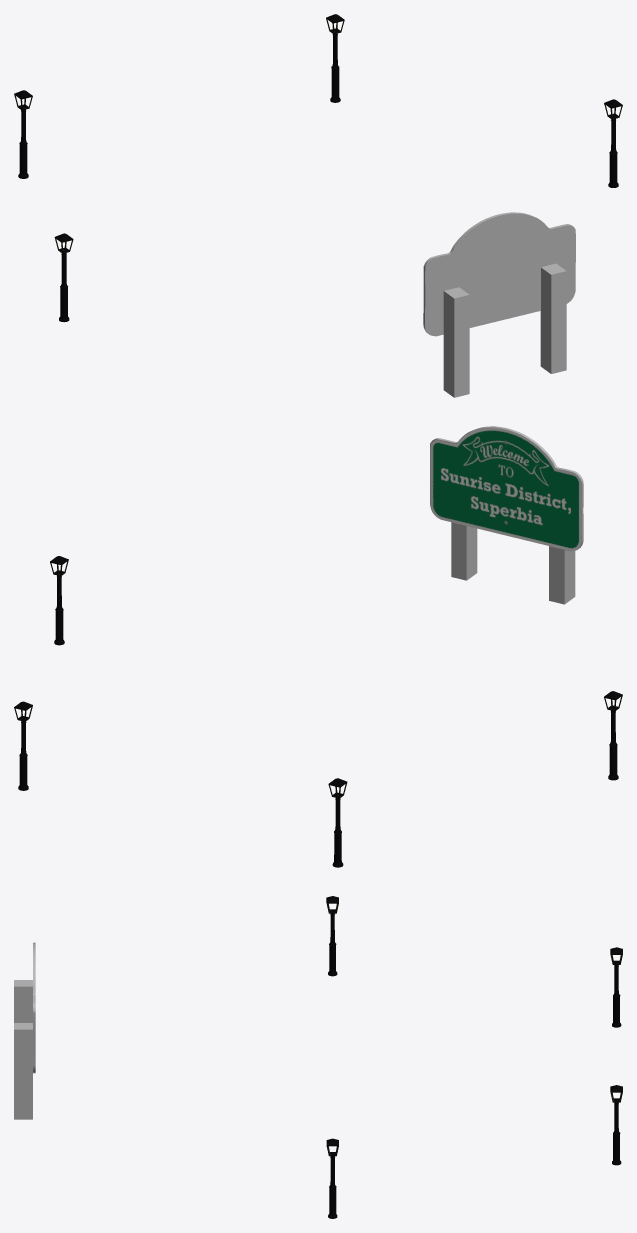
The model's file is lampsSign.glb.
3 renders of one model, top to bottom at view 1: azimuth 30°, elevation 25°; view 2: azimuth 150°, elevation 25°; view 3: azimuth 270°, elevation 25°, orthographic. The views are drawn at different scales.
Visible parts, largest first — view 1: lamps; view 2: lamps; view 3: lamps.
Boxes of the visible parts, x1,y1,x2,y2 form: lamps: (14, 14, 622, 397); lamps: (14, 426, 622, 867); lamps: (14, 896, 622, 1218).
Size of the model in its own units: 23.56 by 6.45 by 24.46.
1 material, 1 textured.
